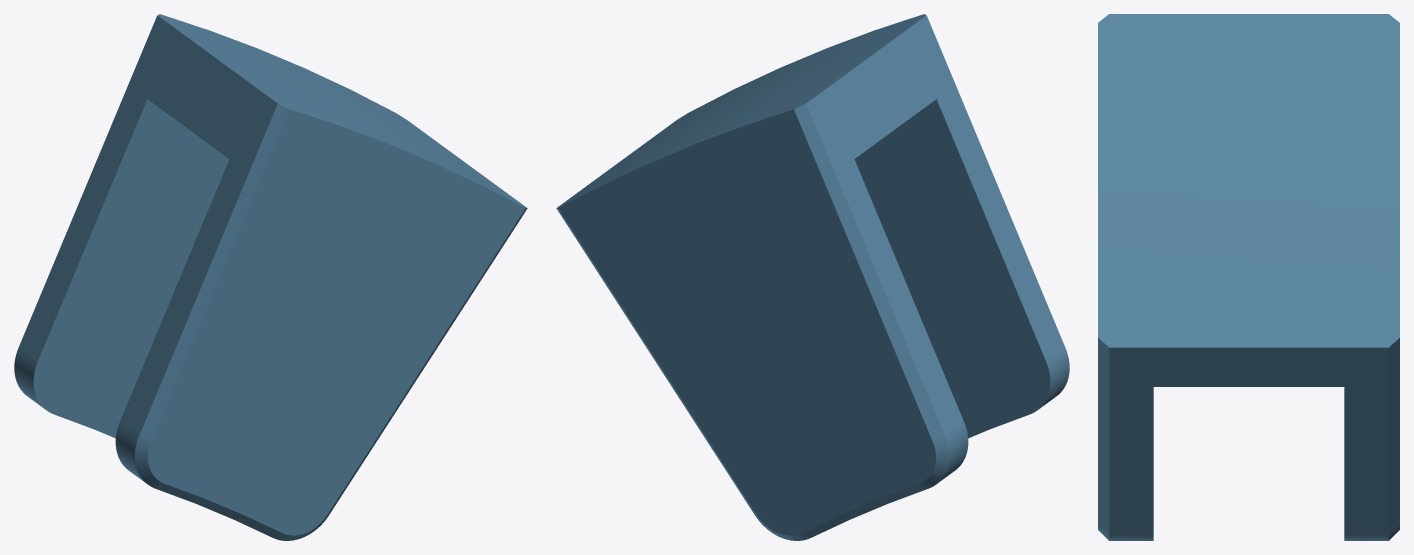
File: acrylic-clip.glb
3 renders of one model, left to right at view 1: azimuth 30°, elevation 25°; view 2: azimuth 150°, elevation 25°; view 3: azimuth 270°, elevation 25°, orthographic. The views are drawn at different scales.
Parts seen in each view (by area): view 1: acrylic-clip-00; view 2: acrylic-clip-00; view 3: acrylic-clip-00.
Part boxes in pixels (bbox=[...]): acrylic-clip-00: bbox=[14, 14, 527, 540]; acrylic-clip-00: bbox=[556, 14, 1069, 540]; acrylic-clip-00: bbox=[1098, 14, 1399, 540].
Size of the model in its own units: 47.22 by 50.64 by 27.1.
